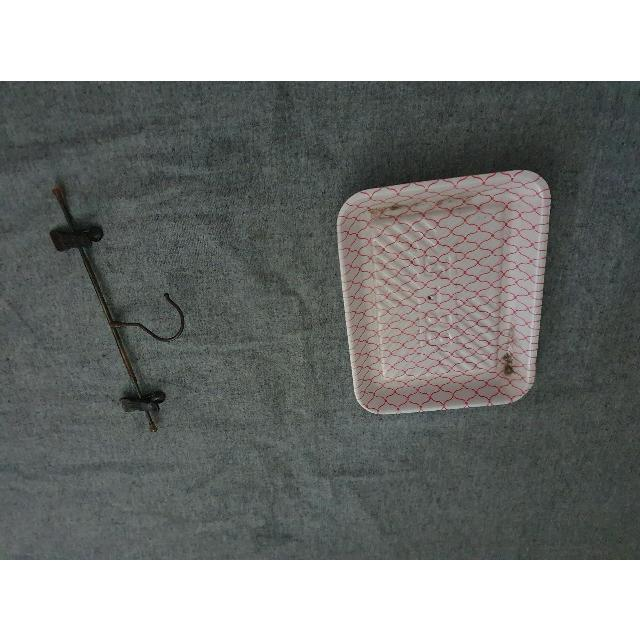Plastico descartable: (337, 170, 552, 417)
